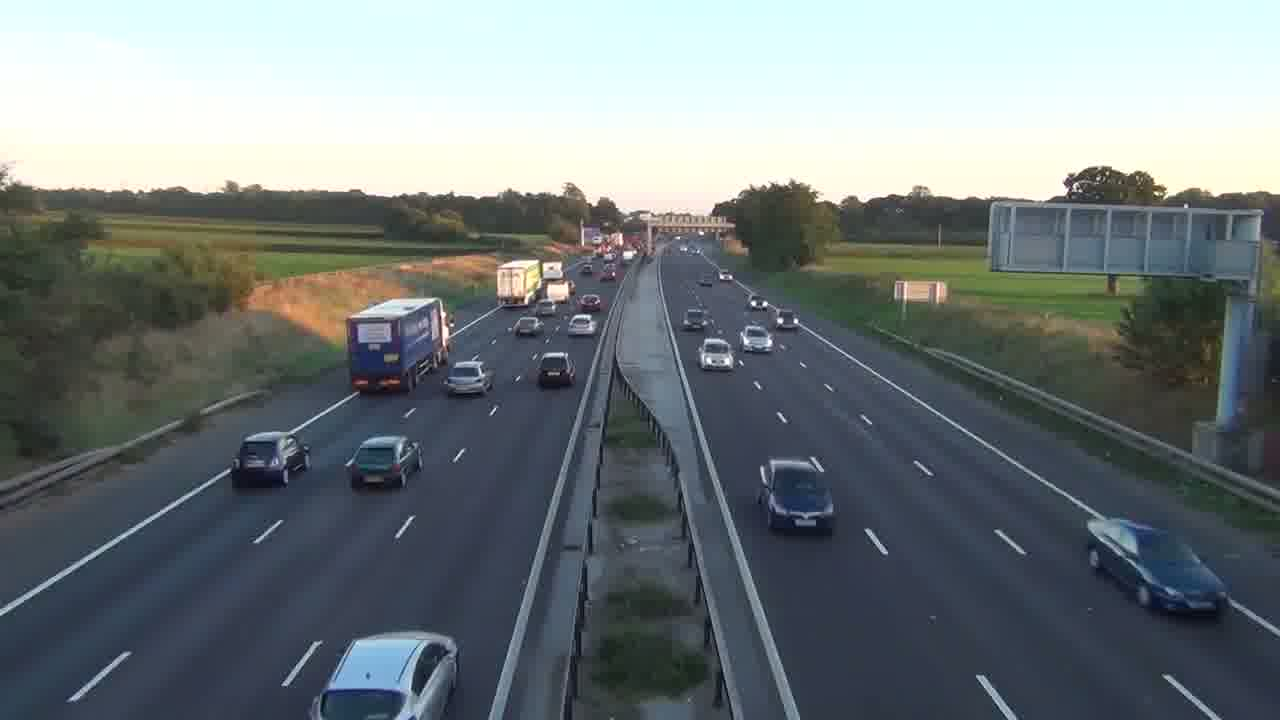bus: (346, 296, 451, 395)
car: (1085, 515, 1230, 616), (310, 628, 461, 719), (231, 430, 310, 488), (346, 433, 423, 488), (444, 357, 495, 396), (535, 351, 577, 388), (697, 337, 738, 372), (740, 324, 773, 353), (568, 313, 597, 335)
truck: (496, 258, 542, 307)
